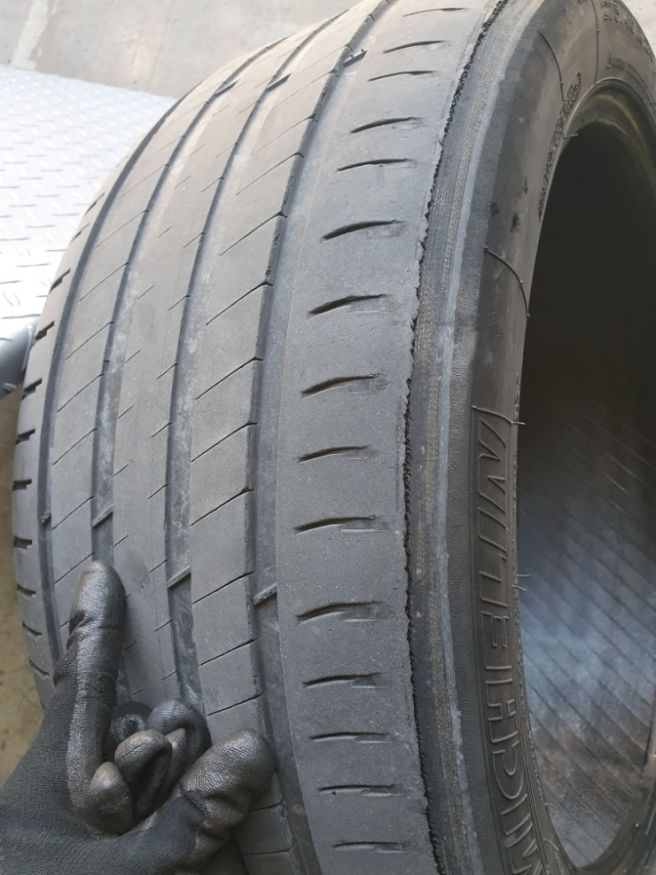bad_condition: (22, 5, 453, 875)
